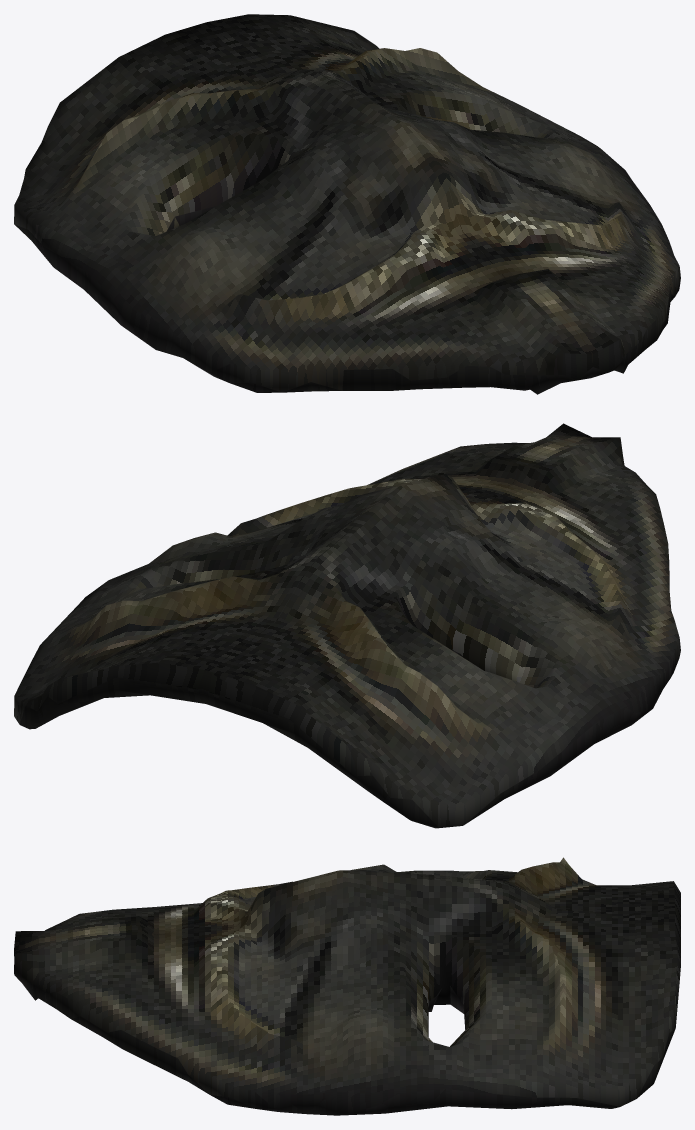
File: mask_2.glb
The picture shows the model from 3 angles, top to bottom: view 1: azimuth 30°, elevation 25°; view 2: azimuth 150°, elevation 25°; view 3: azimuth 270°, elevation 25°; orthographic projection. The views are drawn at different scales.
Visible parts, largest first — view 1: mask_2; view 2: mask_2; view 3: mask_2.
Boxes of the visible parts, <box> form: mask_2: <box>14,14,680,394</box>; mask_2: <box>14,423,680,828</box>; mask_2: <box>14,857,680,1115</box>.
Size of the model in its own units: 0.2319 by 0.0743 by 0.3044.
Materials: 1 (1 with a texture image).
